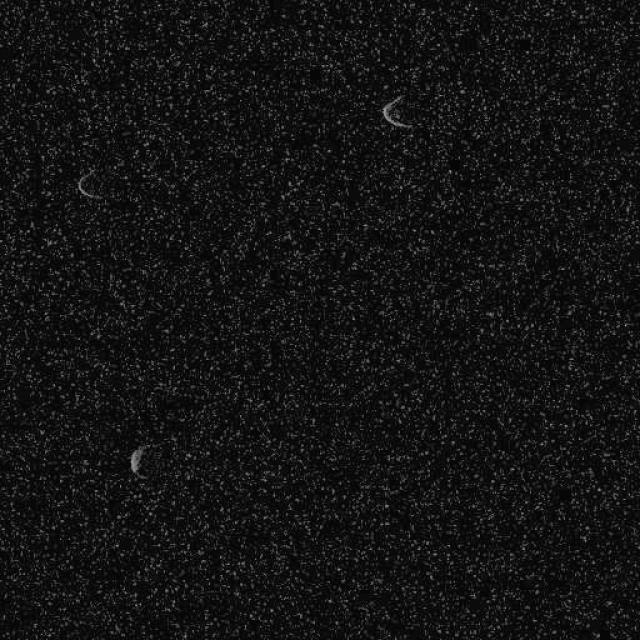D2: (380, 94, 414, 130), (75, 169, 104, 201), (128, 443, 148, 478)
